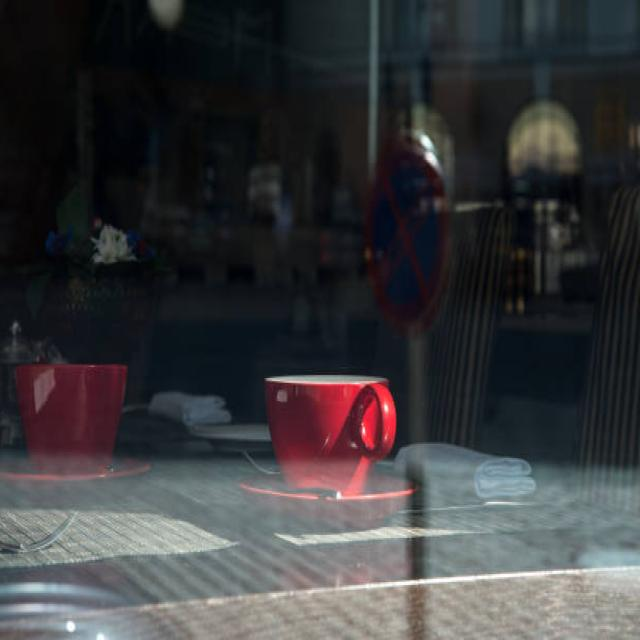Red_cup: (264, 375, 395, 495), (15, 364, 126, 472)
